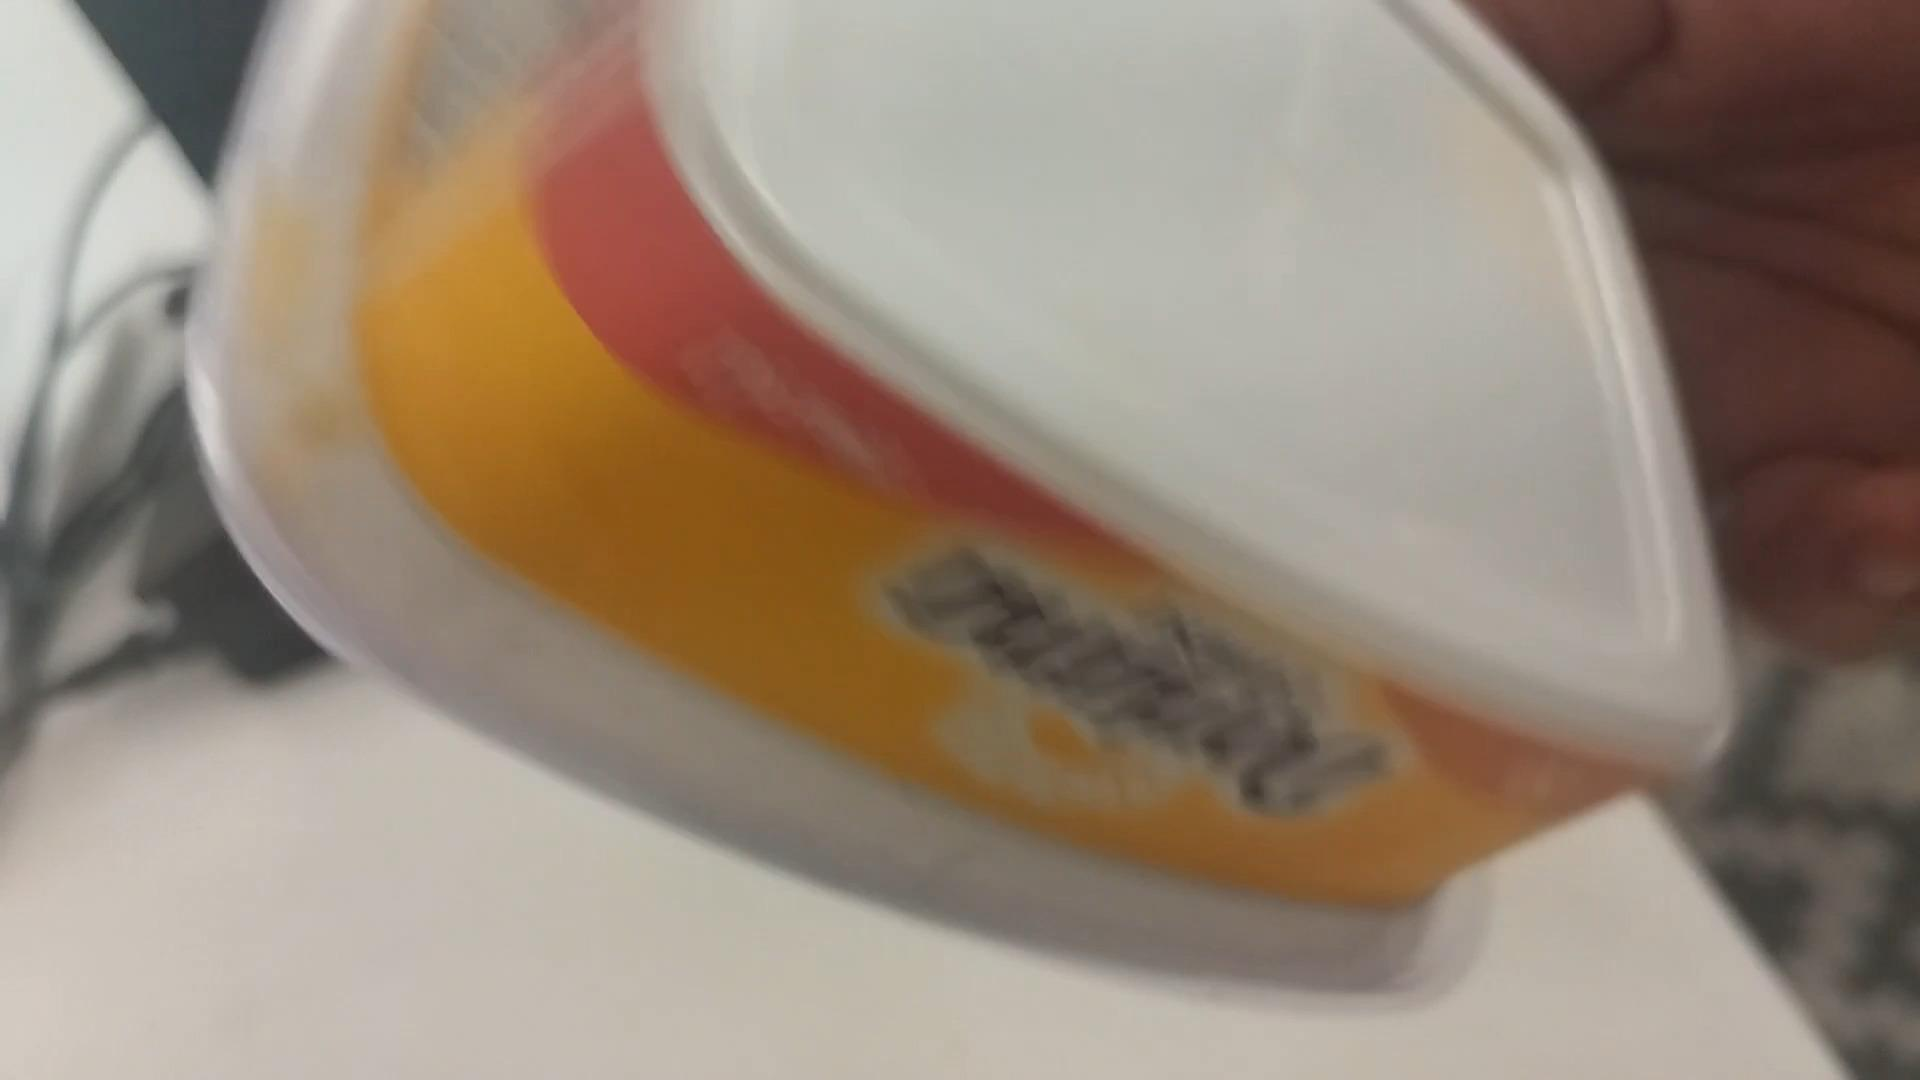butter: (198, 3, 1745, 1030)
